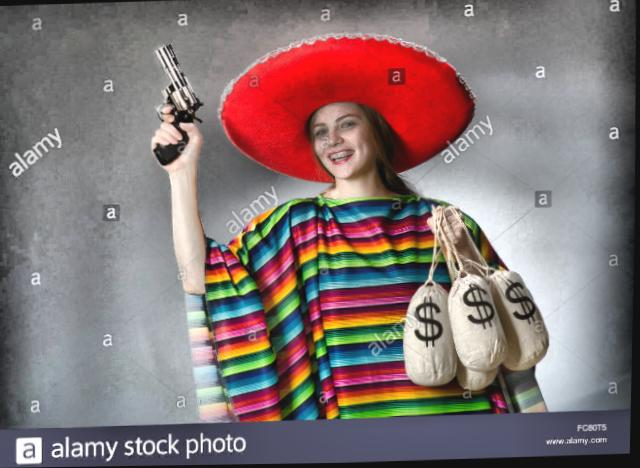pistol: (135, 37, 206, 166)
